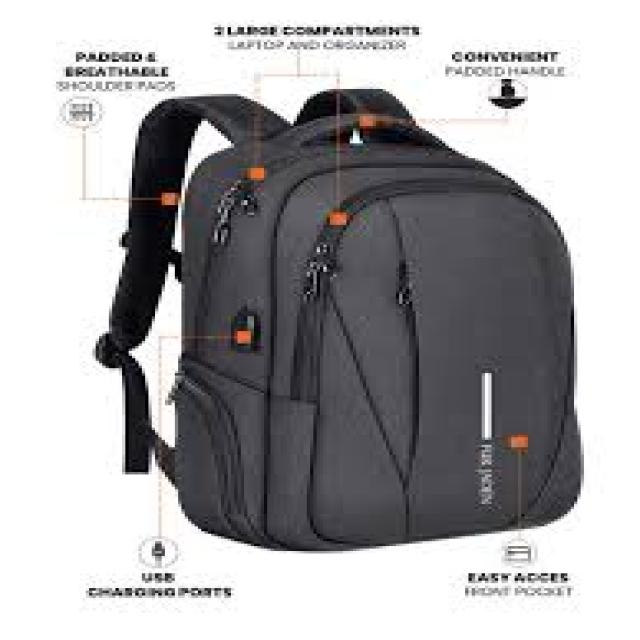backpack: (93, 88, 585, 552)
